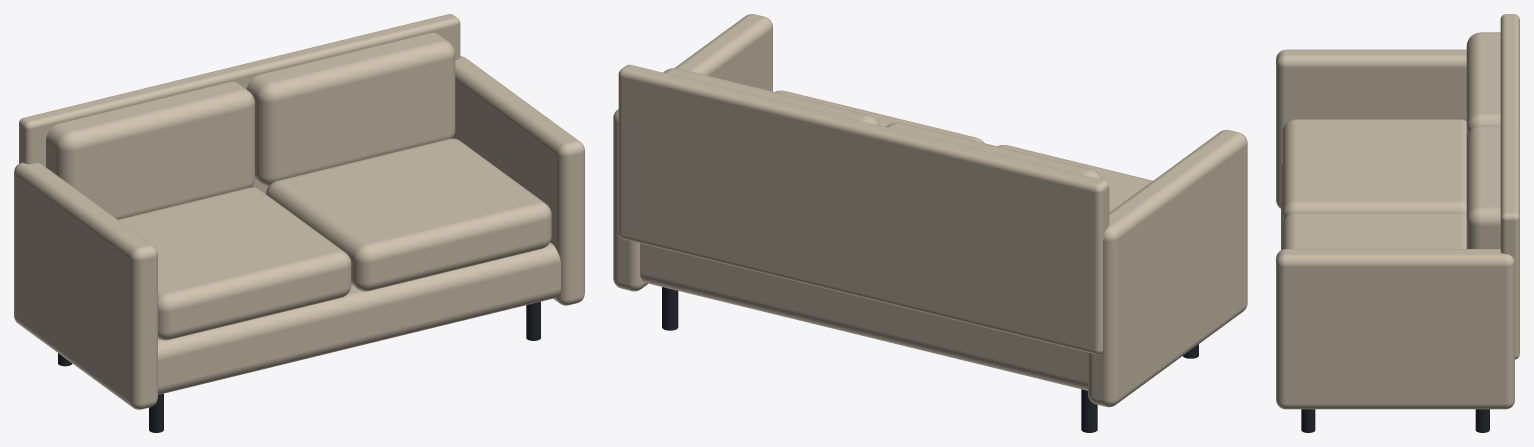
File: sofa-4.glb
3 views of the same model, side by side, from view 1: azimuth 30°, elevation 25°; view 2: azimuth 150°, elevation 25°; view 3: azimuth 270°, elevation 25° (orthographic). The views are drawn at different scales.
Parts seen in each view (by area): view 1: sofa:4:archviz; view 2: sofa:4:archviz; view 3: sofa:4:archviz.
Boxes of the visible parts, x1,y1,x2,y2 form: sofa:4:archviz: (14, 14, 584, 432); sofa:4:archviz: (613, 14, 1247, 432); sofa:4:archviz: (1276, 14, 1519, 432).
Bounding box in the file's own units: 1.55 × 0.78 × 0.755.
